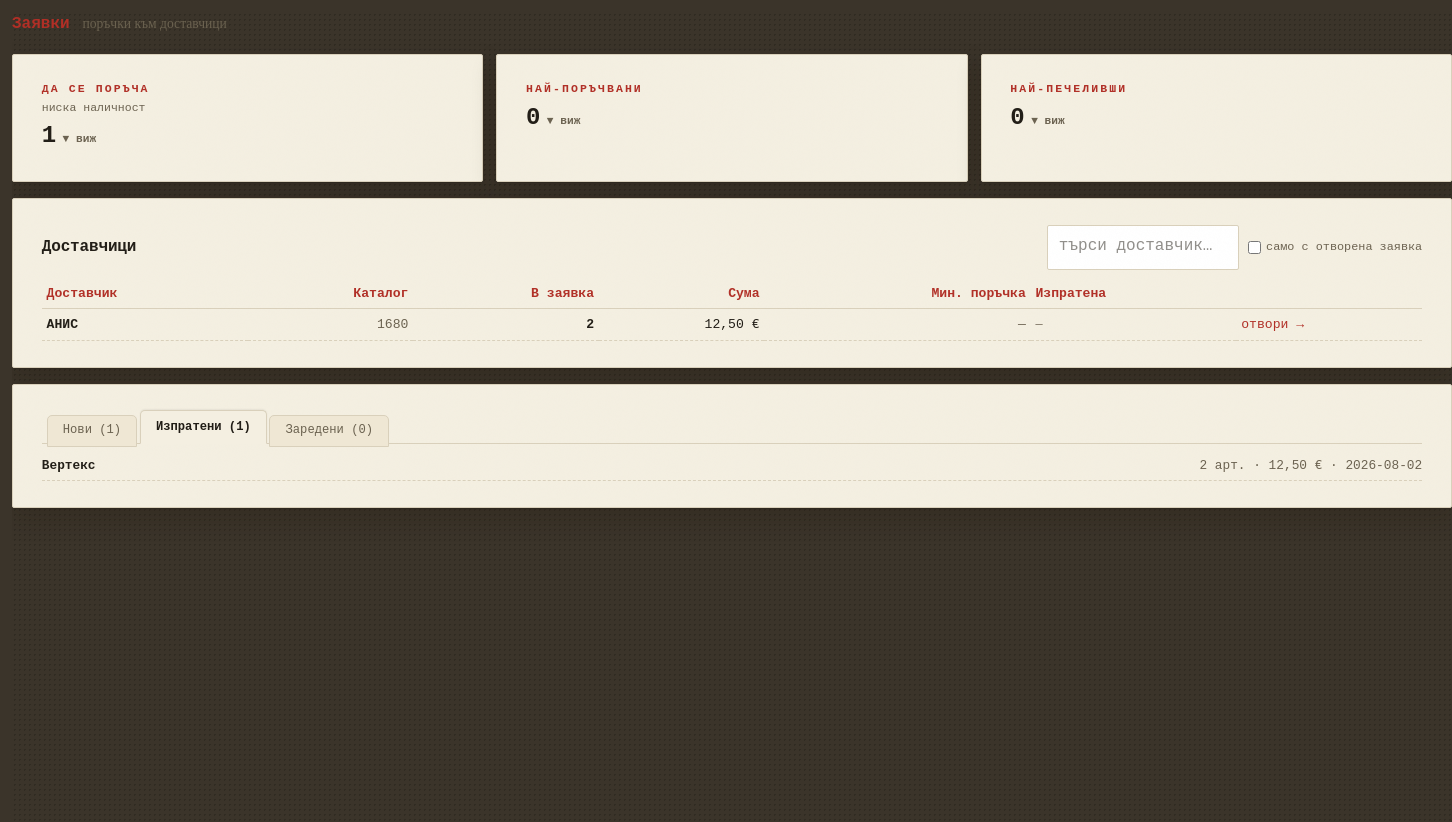
Test: Zayavki › shows the заявки lifecycle tabs and switches stage
Expected: the text "Вертекс" is shown, x1=42 y1=456 x2=96 y2=477
Click the tab "Нови (1)": point(92, 431) x1=47 y1=415 x2=137 y2=447
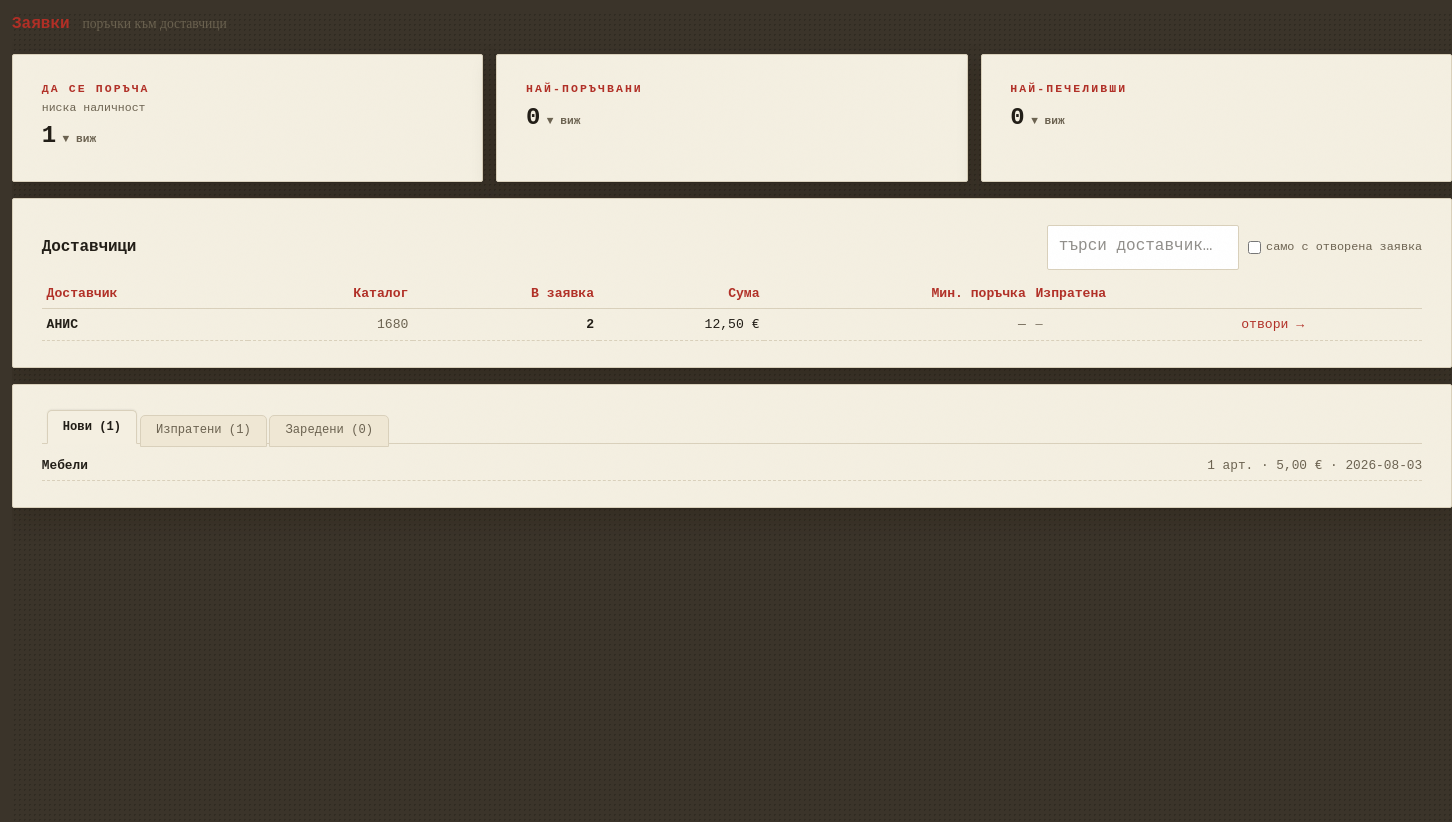
Expected: the text "Мебели" is shown, x1=42 y1=456 x2=88 y2=477
